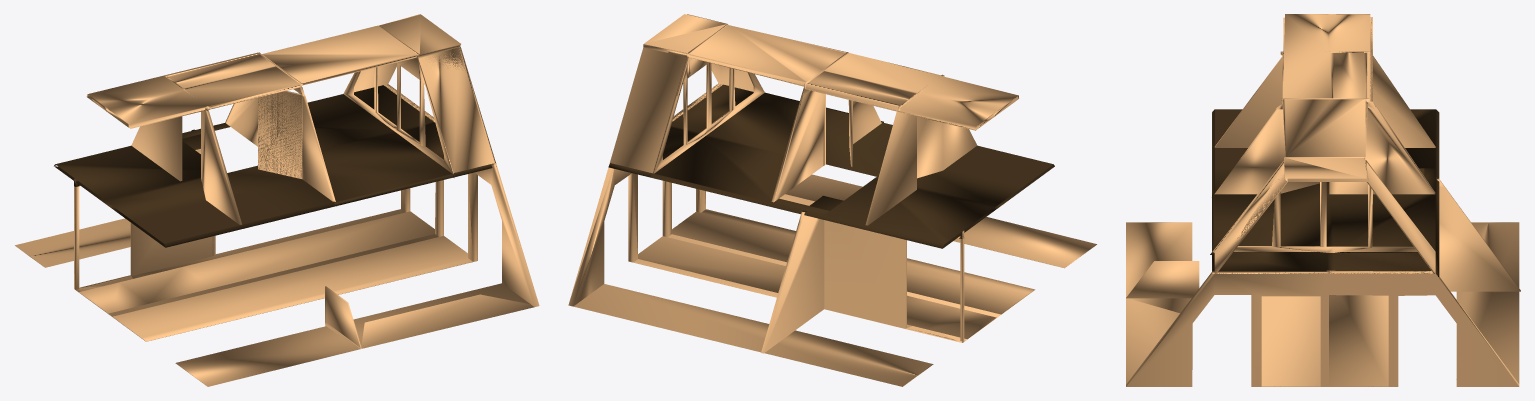
The model's file is HouseWalls.fbx.
3 renders of one model, left to right at view 1: azimuth 30°, elevation 25°; view 2: azimuth 150°, elevation 25°; view 3: azimuth 270°, elevation 25°, orthographic.
Parts seen in each view (by area): view 1: Plane.003; view 2: Plane.003; view 3: Plane.003.
Boxes of the visible parts, <box> form: Plane.003: <box>15,14,539,386</box>; Plane.003: <box>568,14,1096,386</box>; Plane.003: <box>1126,14,1520,386</box>.
Size of the model in its own units: 1204 by 710 by 1220.
